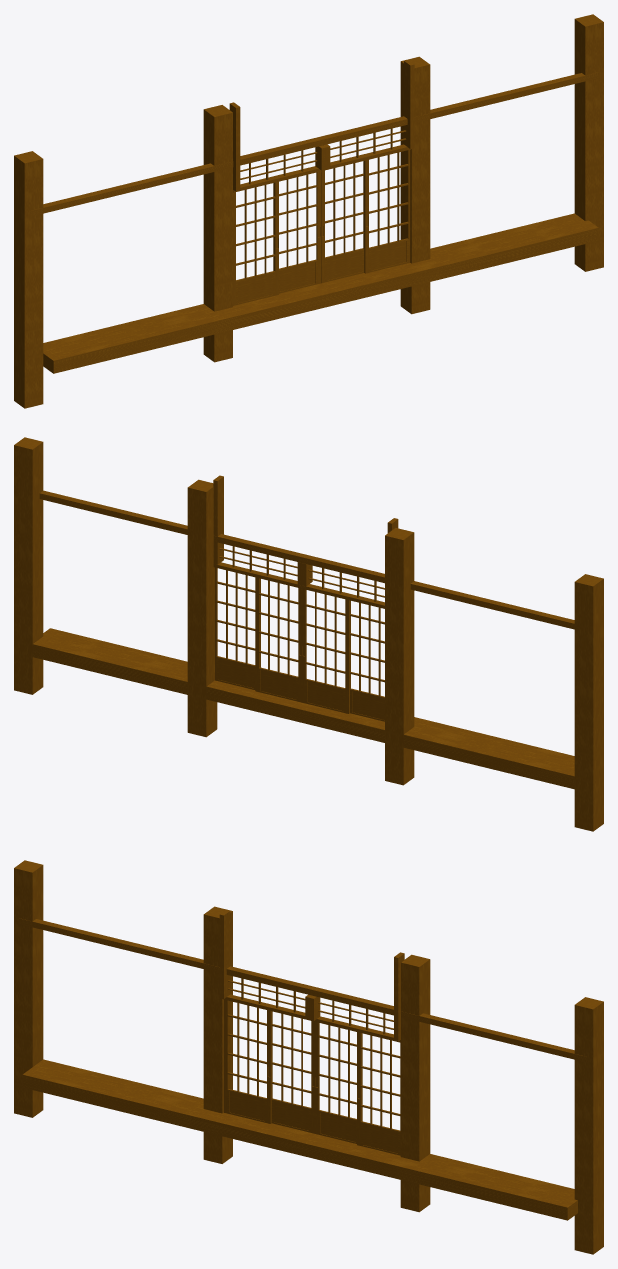
The model's file is doujou_wood_back.obj.
3 views of the same model, one above another, from view 1: azimuth 30°, elevation 25°; view 2: azimuth 150°, elevation 25°; view 3: azimuth 330°, elevation 25° (orthographic).
Visible parts, largest first — view 1: 立方体.279; view 2: 立方体.279; view 3: 立方体.279.
Part boxes in pixels (<box>): 立方体.279: <box>14,14,603,408</box>; 立方体.279: <box>14,437,603,831</box>; 立方体.279: <box>14,860,603,1254</box>.
Bounding box in the file's own units: 514 × 214 × 32.09.
1 material, 1 textured.
